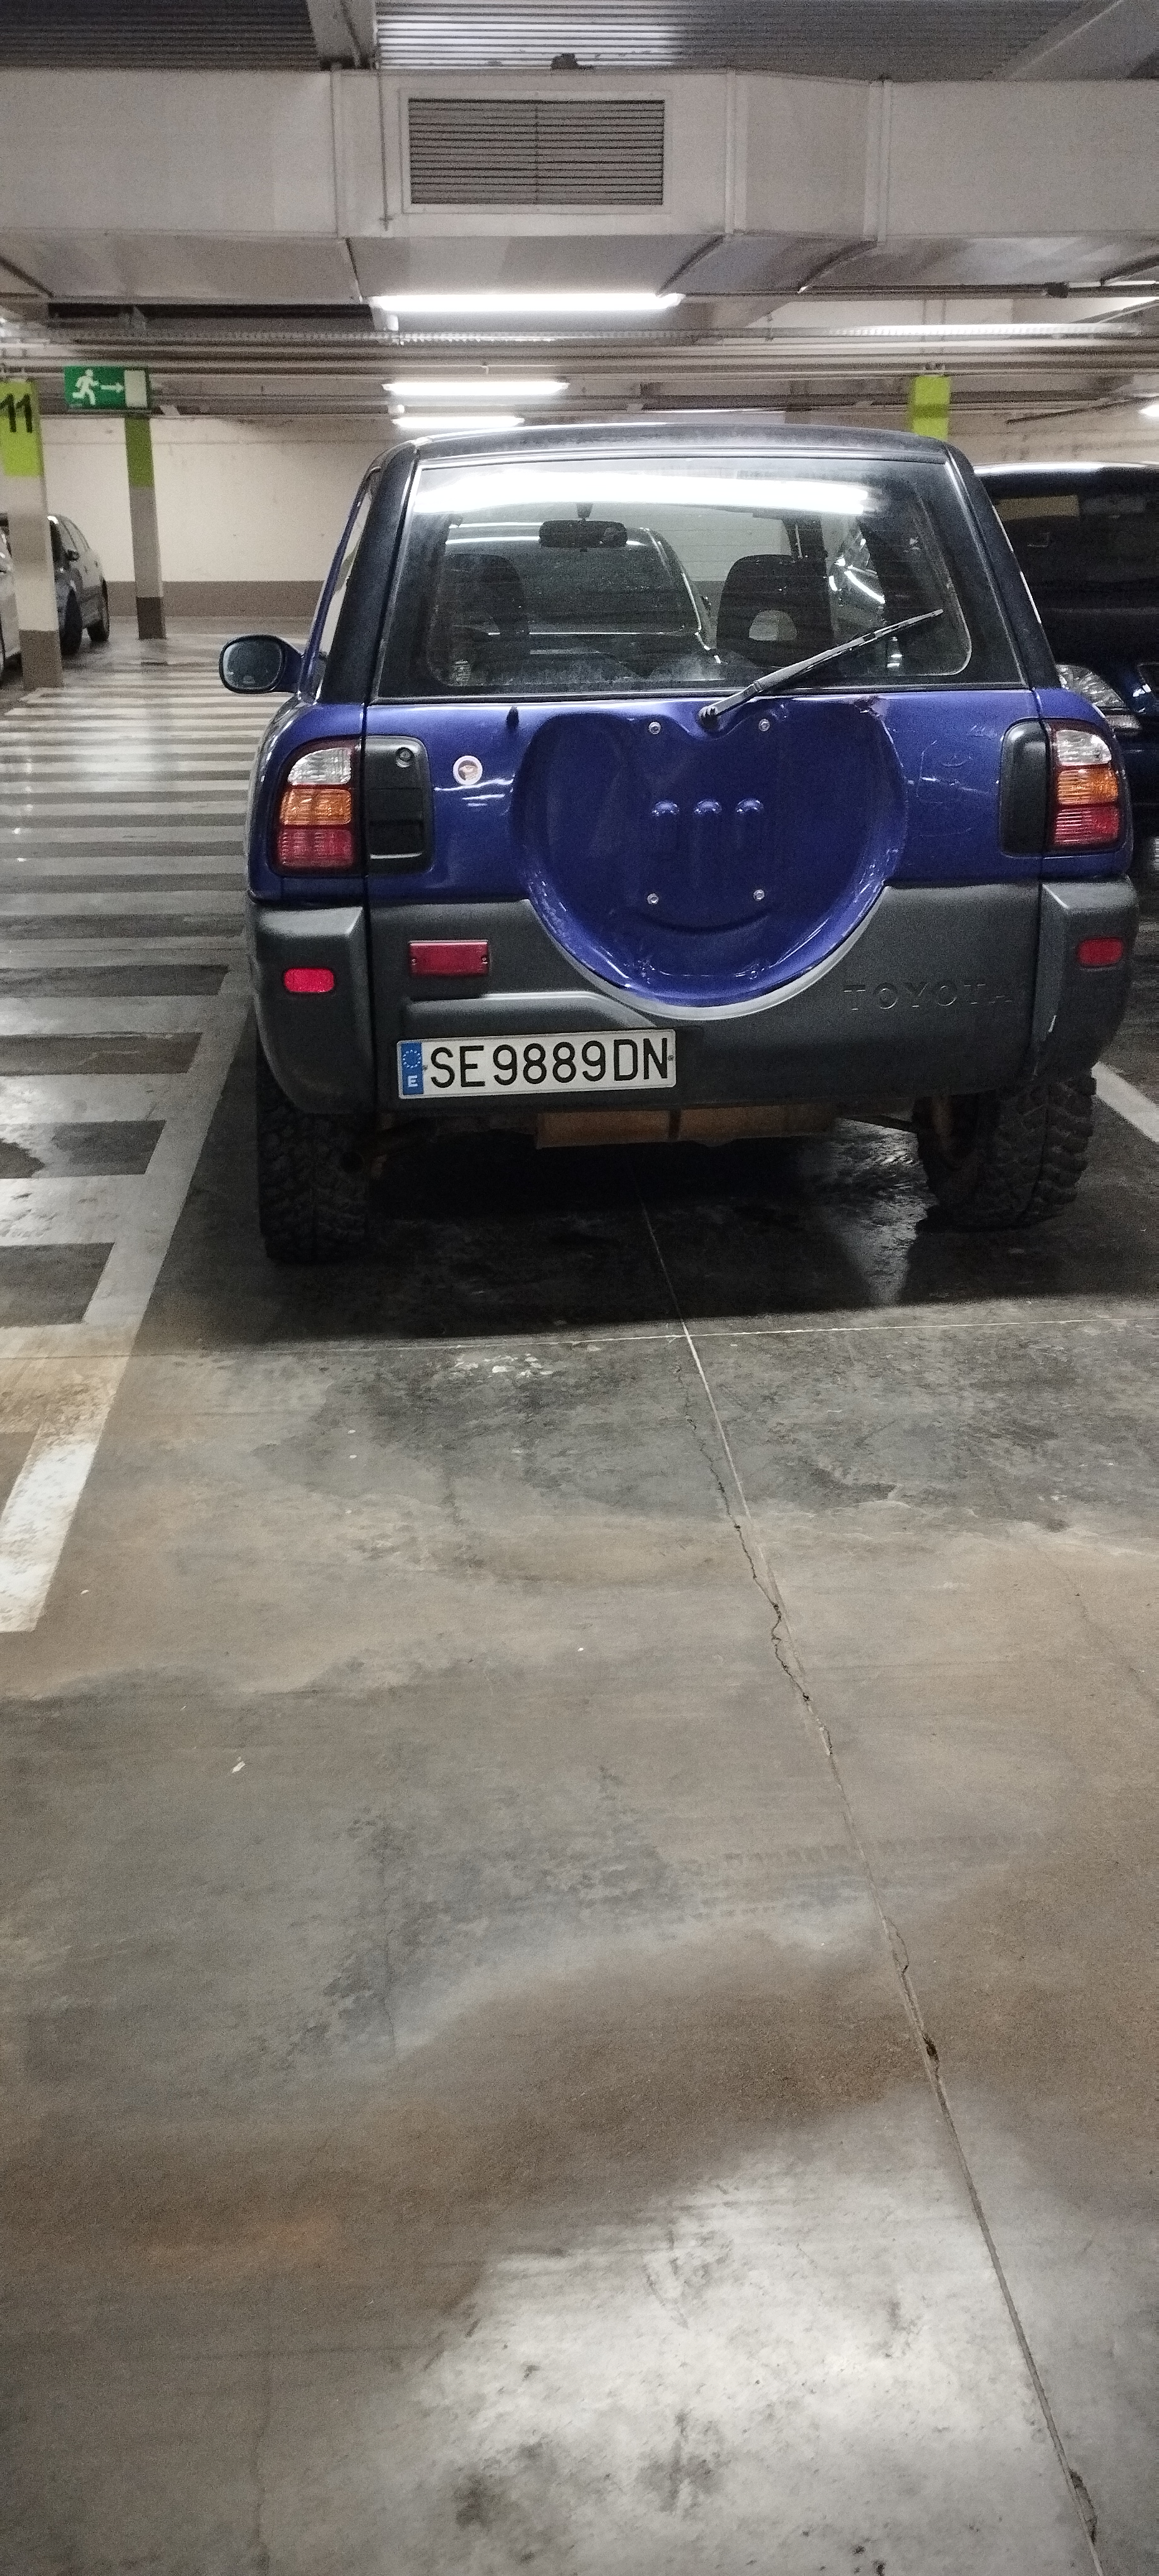Car: (210, 436, 1137, 1225)
Plate: (395, 1034, 675, 1095)
